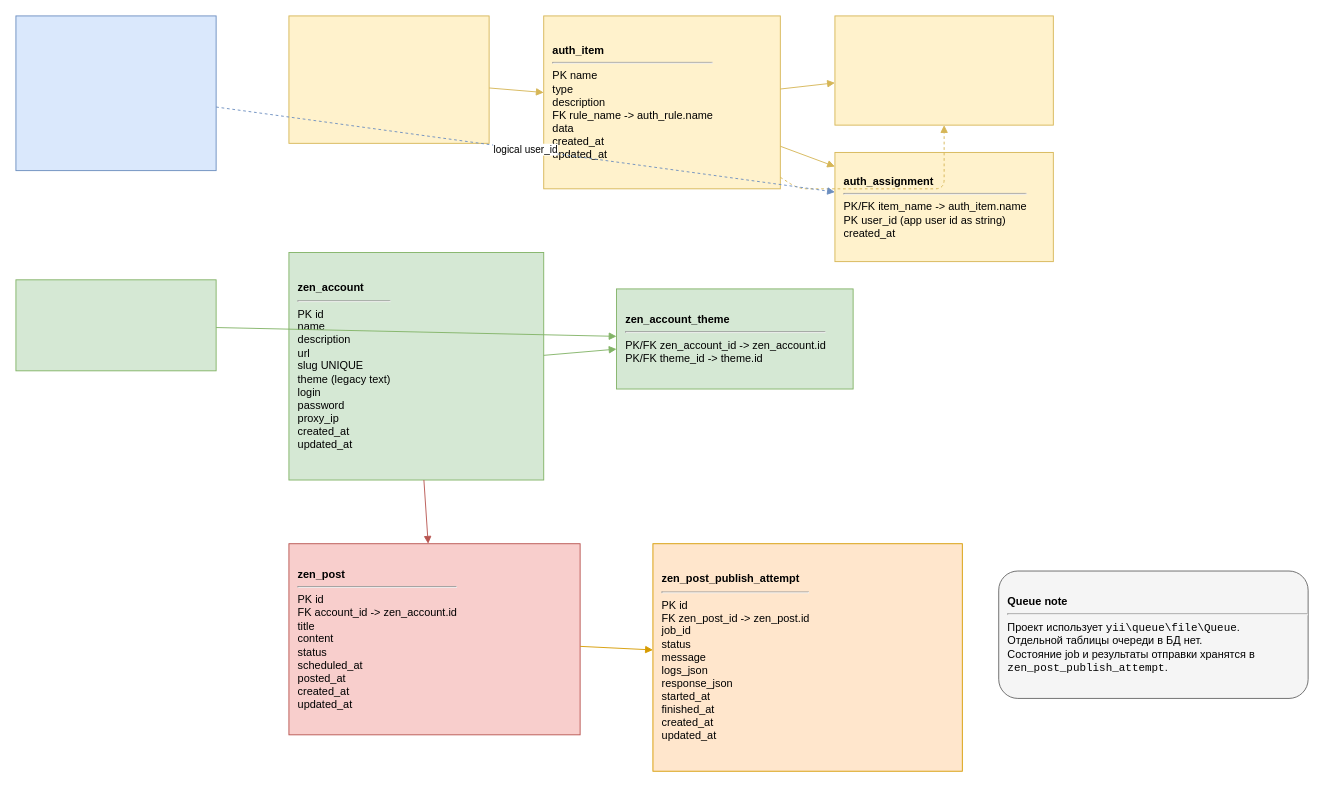
This 1324x787 diagram has some shape labels left out. Each missing label, with the box of its shape:
auth_item_child PK/FK parent -> auth_item.name PK/FK child -> auth_item.name: (834, 15, 1053, 125)
auth_rule PK name data created_at updated_at: (288, 15, 489, 143)
theme PK id name: (15, 279, 216, 371)
user PK id username UNIQUE auth_key password_hash created_at updated_at: (15, 15, 216, 171)
